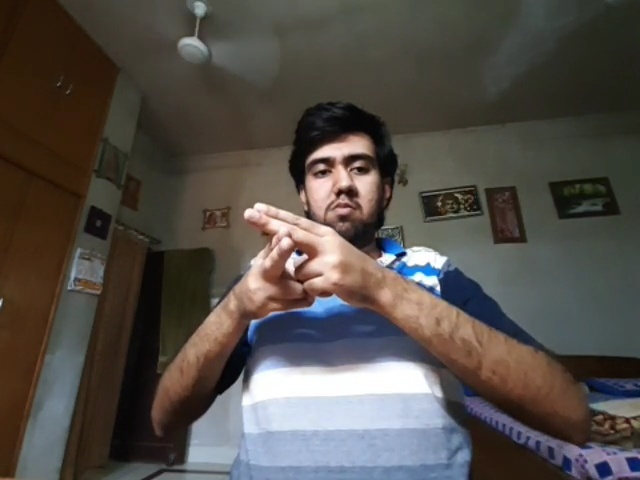Name: (235, 202, 383, 319)
